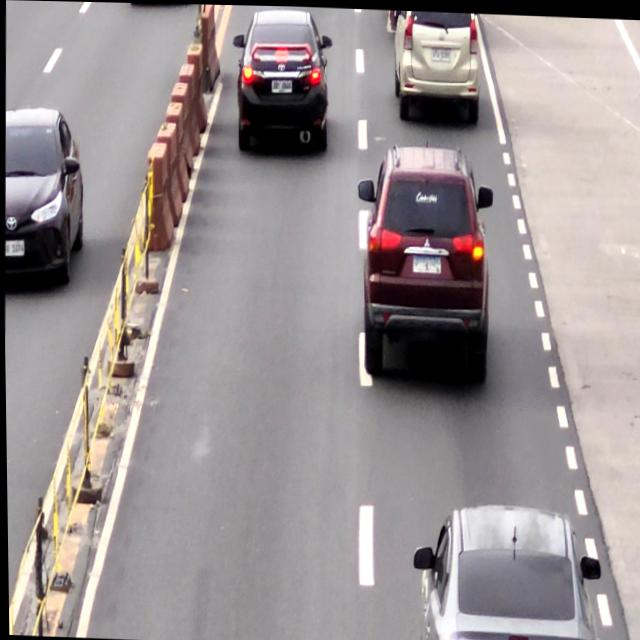Car: (353, 144, 496, 388), (410, 501, 600, 640), (232, 9, 336, 152), (391, 8, 484, 126)
License-Plate: (410, 250, 441, 273), (269, 78, 293, 93), (431, 45, 451, 59)
